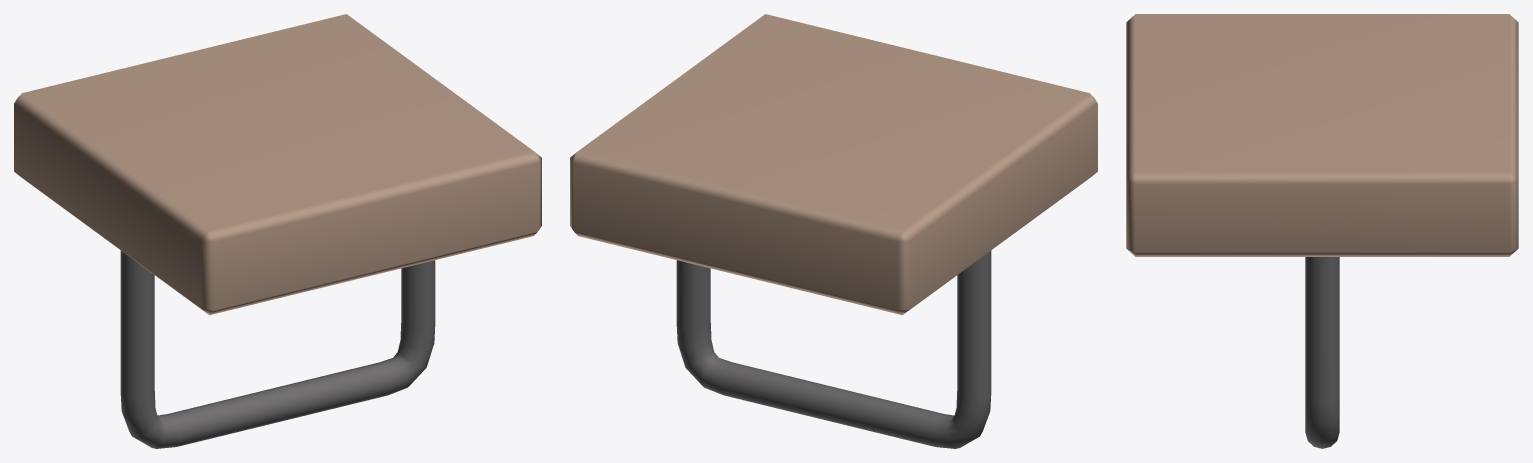
The model's file is Toilet_paper_holder.glb.
3 renders of one model, left to right at view 1: azimuth 30°, elevation 25°; view 2: azimuth 150°, elevation 25°; view 3: azimuth 270°, elevation 25°, orthographic.
Parts seen in each view (by area): view 1: Toilet_paper_holder; view 2: Toilet_paper_holder; view 3: Toilet_paper_holder.
Boxes of the visible parts, left/top/right/bottom form: Toilet_paper_holder: left=14, top=14, right=541, bottom=448; Toilet_paper_holder: left=570, top=14, right=1097, bottom=448; Toilet_paper_holder: left=1126, top=14, right=1518, bottom=448.
Size of the model in its own units: 0.3025 by 0.2529 by 0.3025.
Materials: 1 (1 with a texture image).
